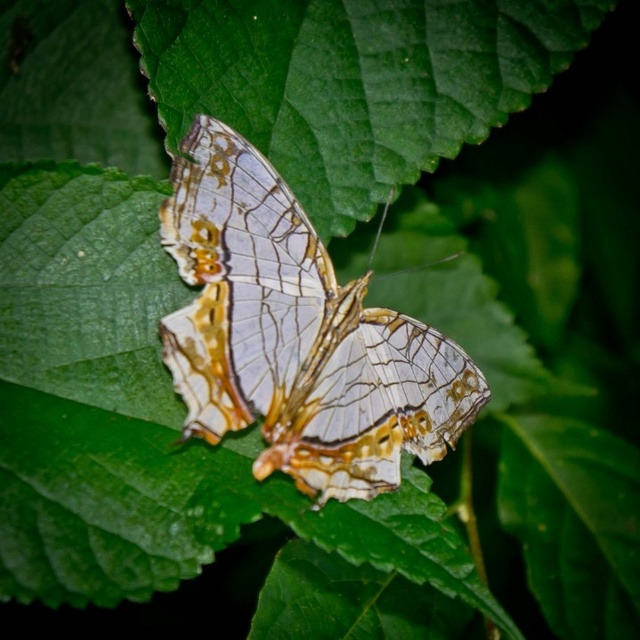Butterfly: (151, 113, 477, 505)
